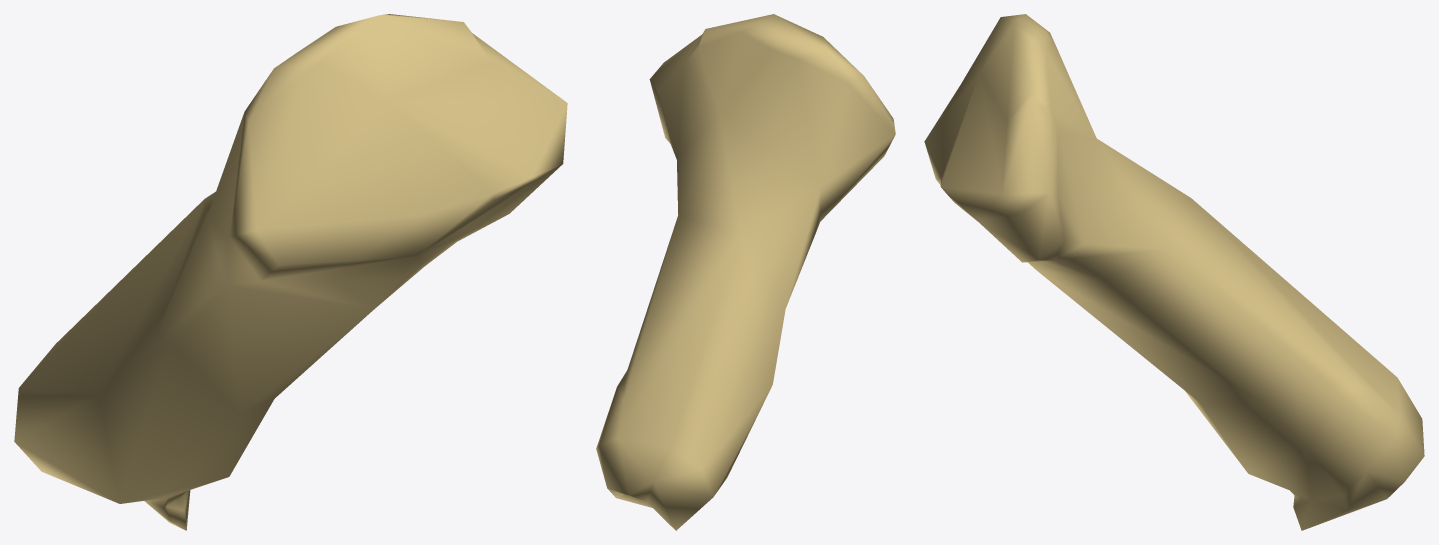
3 renders of one model, left to right at view 1: azimuth 30°, elevation 25°; view 2: azimuth 150°, elevation 25°; view 3: azimuth 270°, elevation 25°, orthographic. The views are drawn at different scales.
Visible parts, largest first — view 1: 左侧第五指远节指骨; view 2: 左侧第五指远节指骨; view 3: 左侧第五指远节指骨.
Part boxes in pixels (bbox=[...]): 左侧第五指远节指骨: bbox=[14, 14, 567, 530]; 左侧第五指远节指骨: bbox=[596, 14, 895, 530]; 左侧第五指远节指骨: bbox=[924, 14, 1424, 530].
Bounding box in the file's own units: 0.0126 × 0.0218 × 0.0193.
